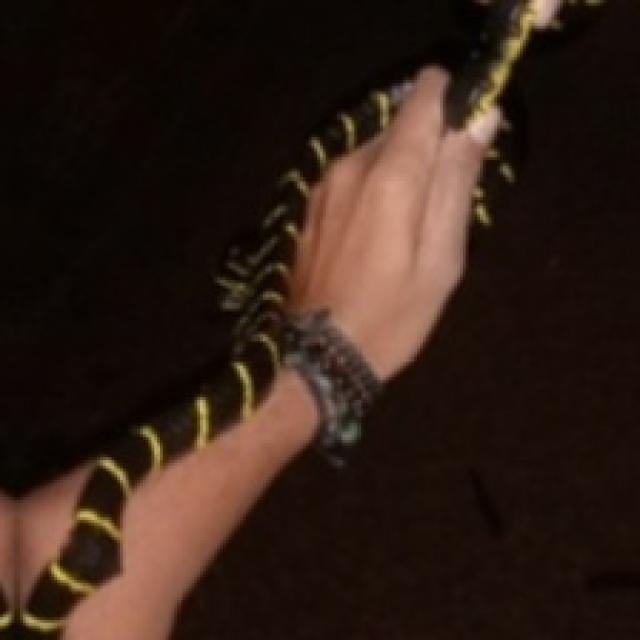mangrove cat snake: (0, 78, 407, 640), (449, 0, 532, 128)
